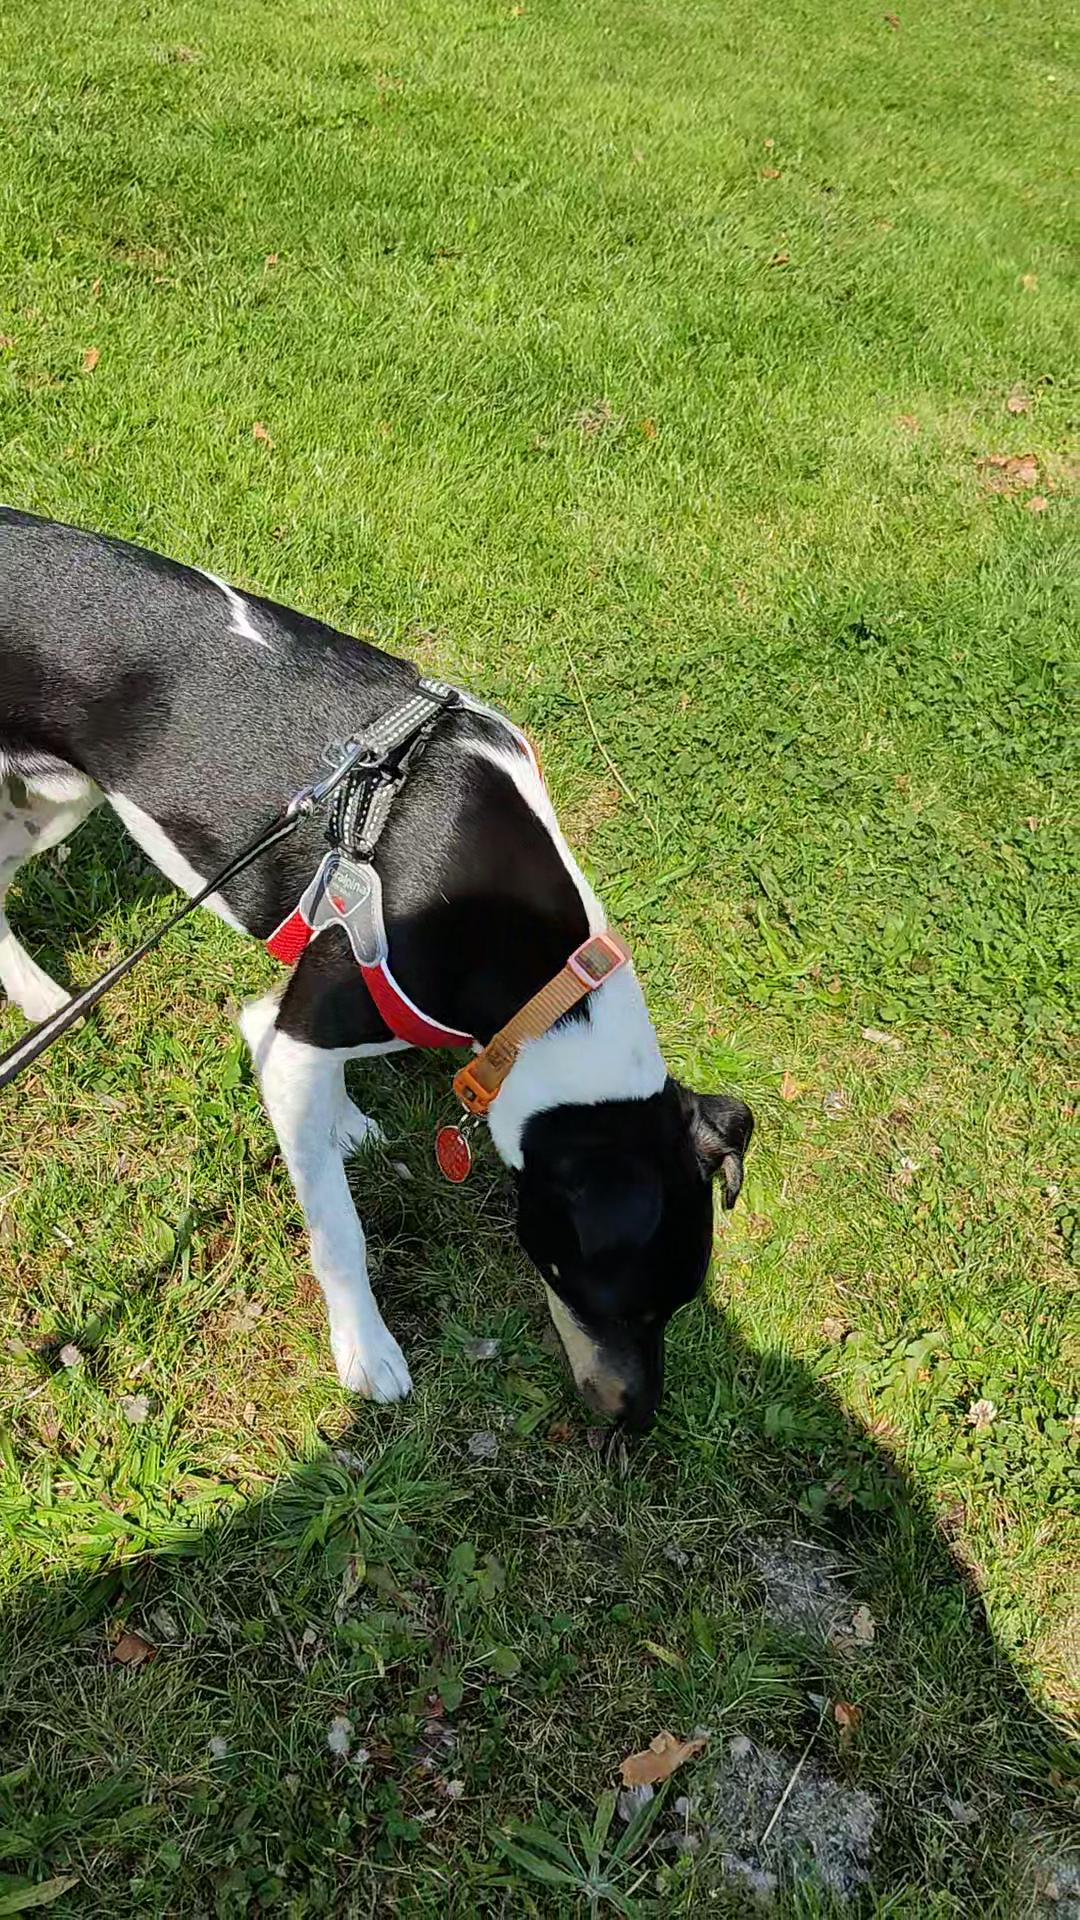Dog: (0, 502, 758, 1437)
